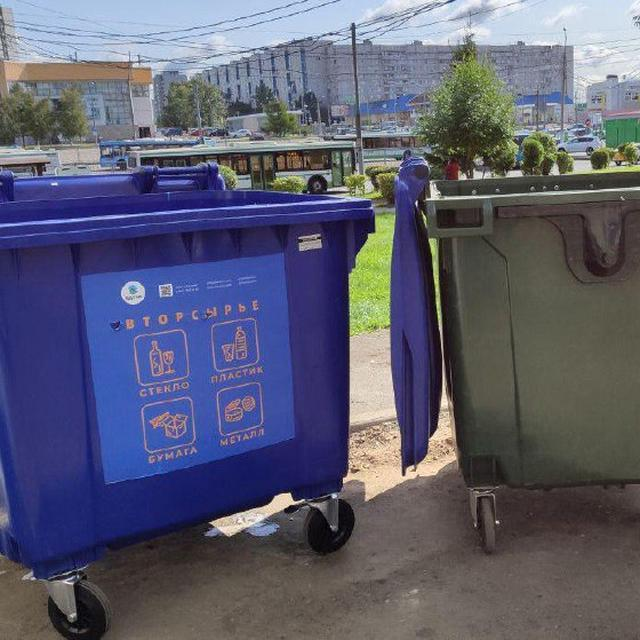Trash_Can_Empty: (0, 186, 375, 578), (430, 169, 640, 490)
